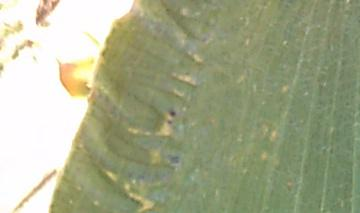tarspot: (163, 106, 182, 131)
